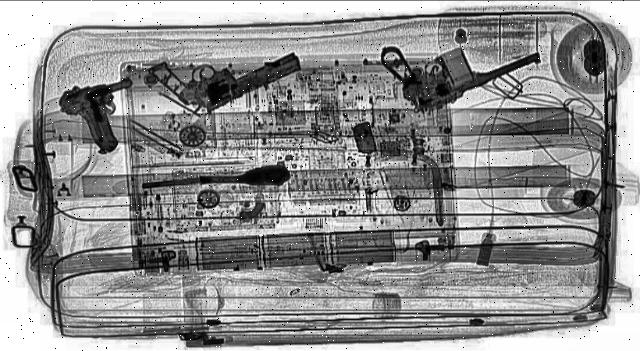Gun: (338, 8, 556, 114), (134, 23, 316, 112), (49, 76, 162, 154)
